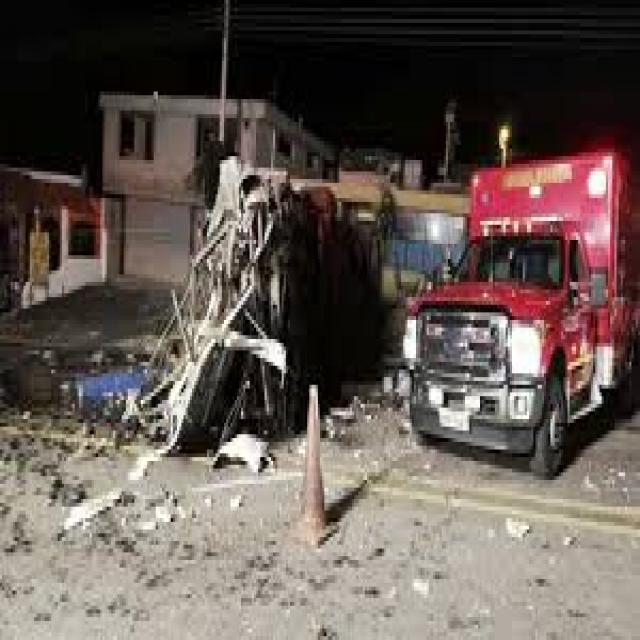accident: (133, 138, 338, 473)
